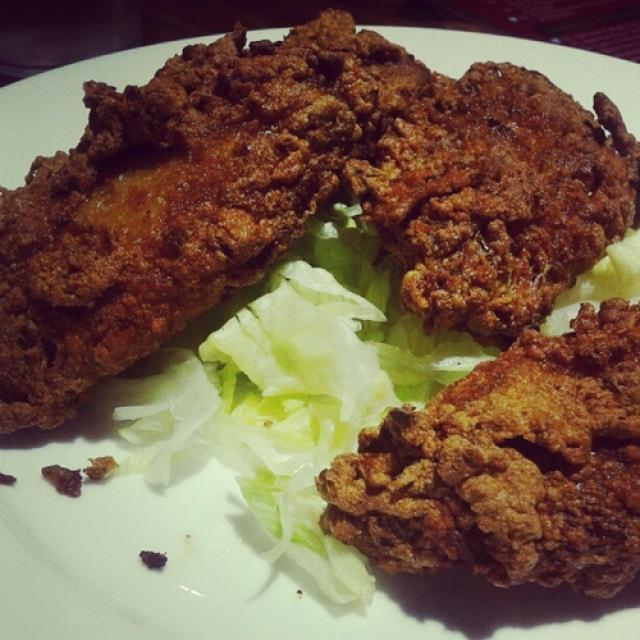鸡肉料理 含炸鸡: (9, 40, 626, 604)
